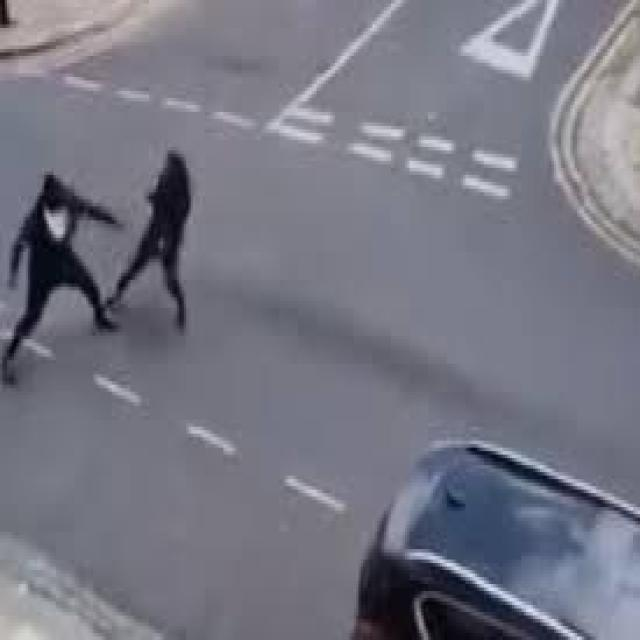fight: (0, 106, 195, 372)
